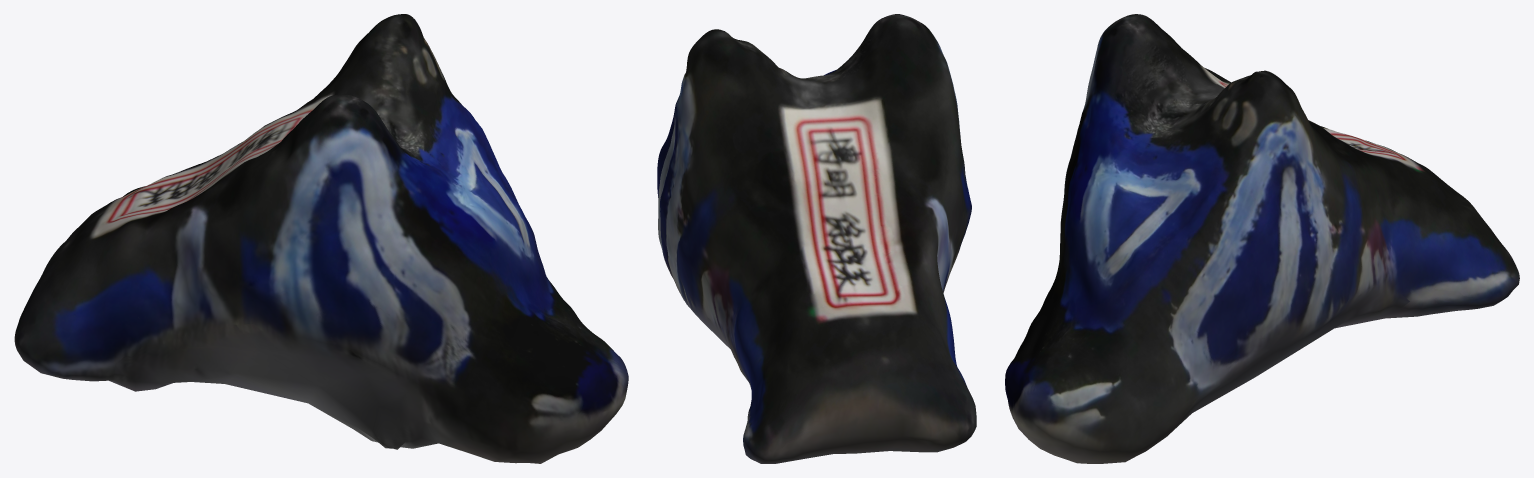
3 renders of one model, left to right at view 1: azimuth 30°, elevation 25°; view 2: azimuth 150°, elevation 25°; view 3: azimuth 270°, elevation 25°, orthographic. The views are drawn at different scales.
Size of the model in its own units: 0.5298 by 0.4379 by 0.5647.
Materials: 1 (1 with a texture image).
